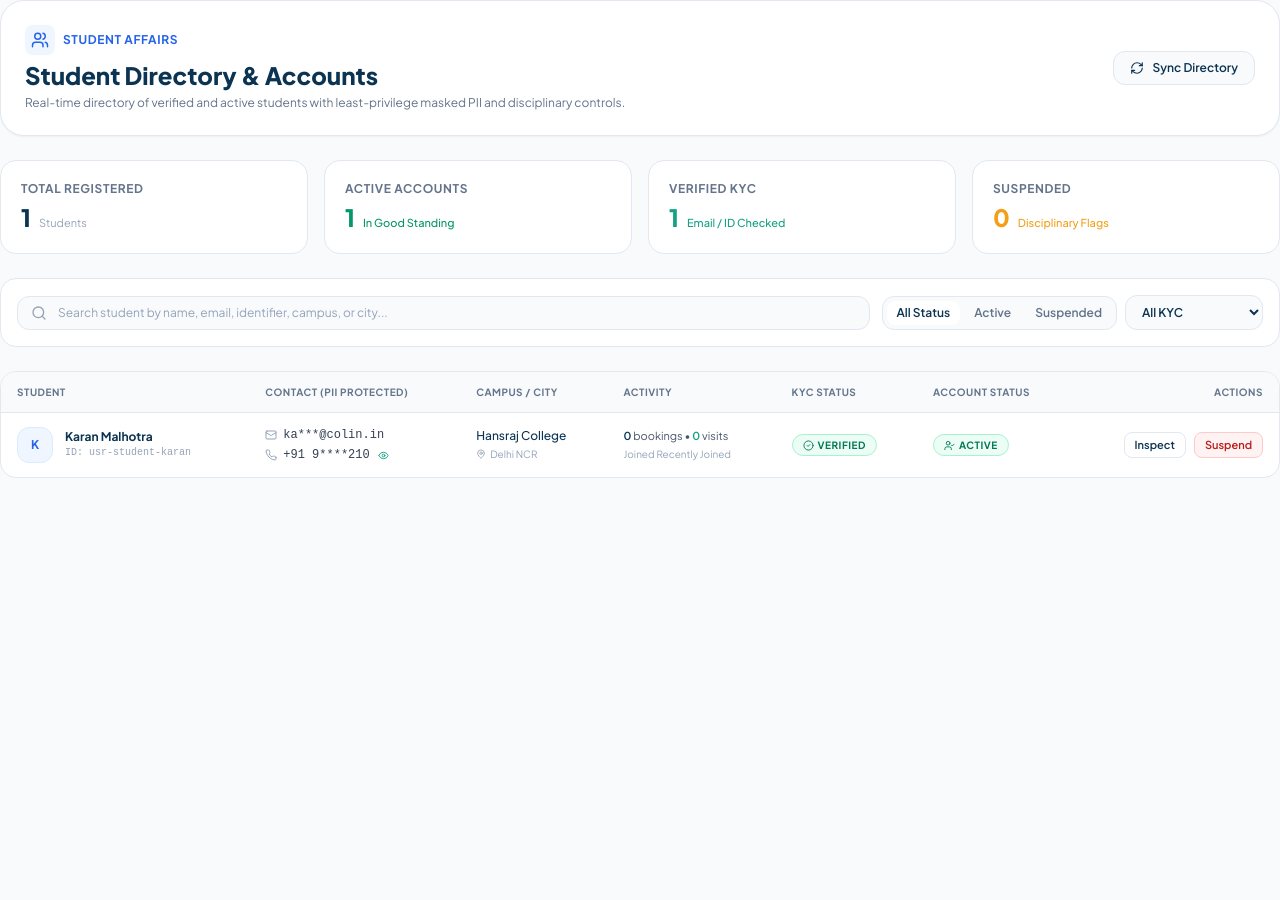
COLIN Master Admin Portal Final Acceptance Audit › Section 3 & 5: Student Registration Lifecycle & Management › renders AdminStudentsPage with search, masked PII, unmask toggle, and suspension controls
Expected: the text "Karan Malhotra" is shown, [65,429,153,444]
Expected: the text "ka***@colin.in" is shown, [283,427,384,443]
Click inspect
Click the button "Inspect": (1155, 445) [1124,432,1186,458]
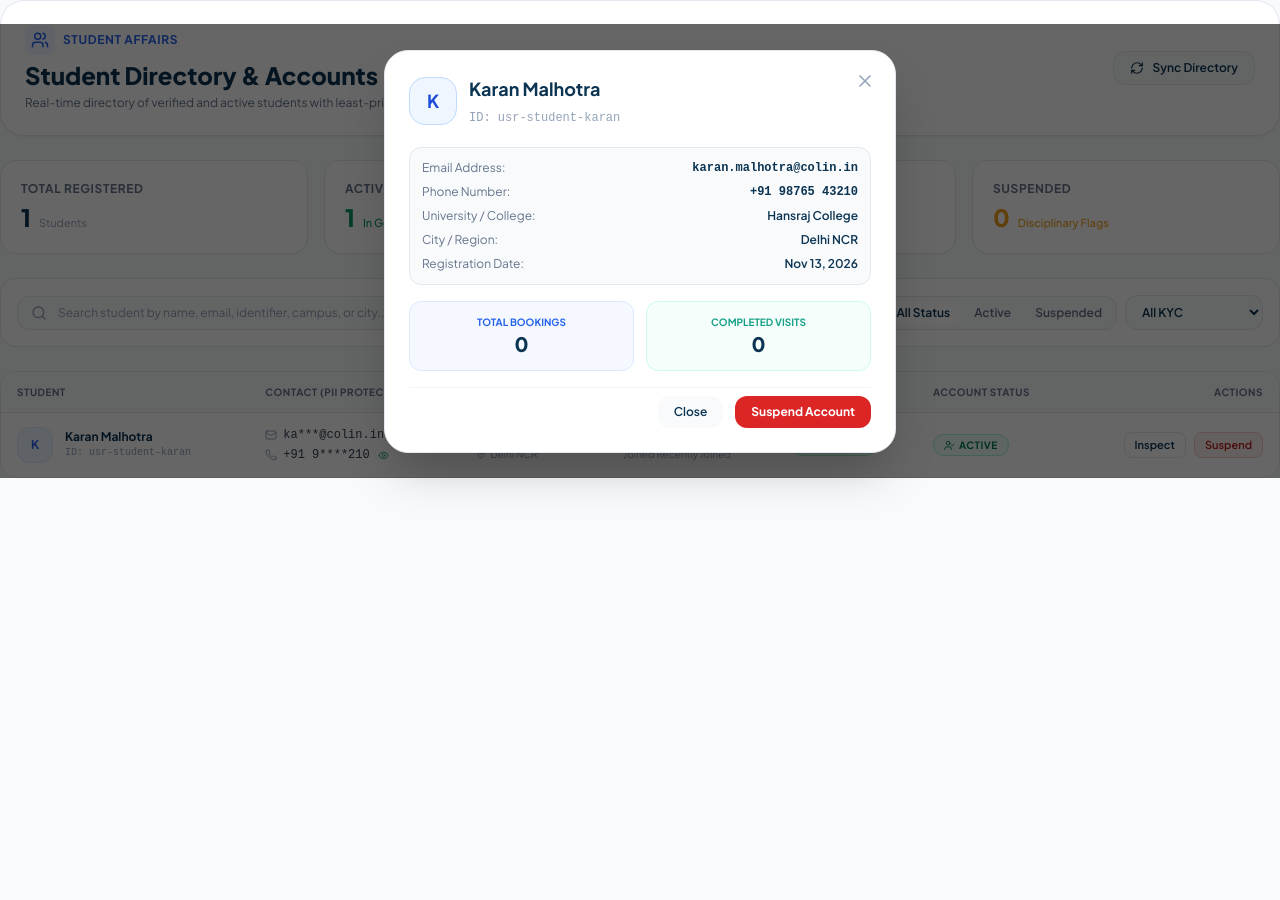
Click the button "Close": (690, 412) [658,396,723,428]
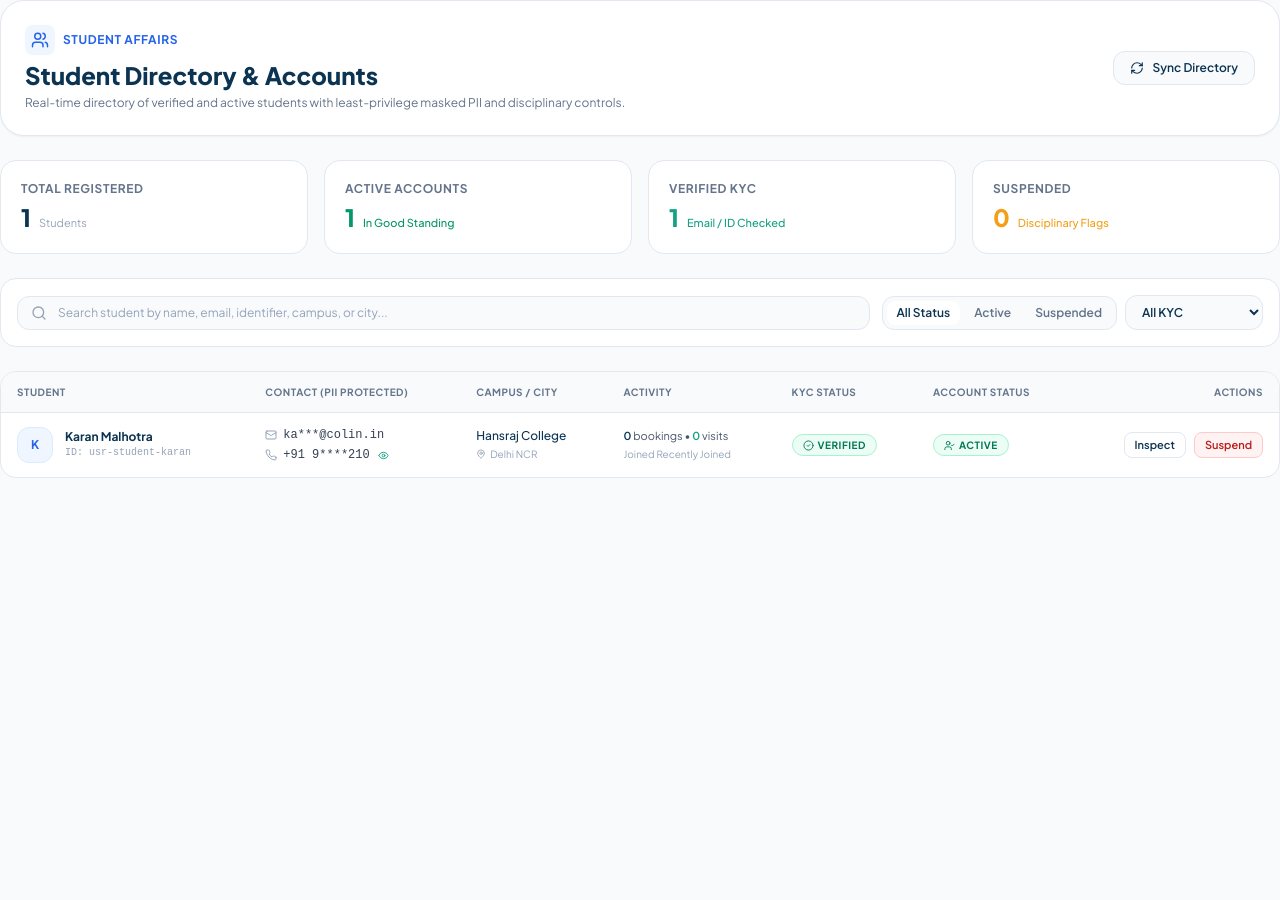
Click the button "Suspend": (1228, 445) [1194,432,1263,458]
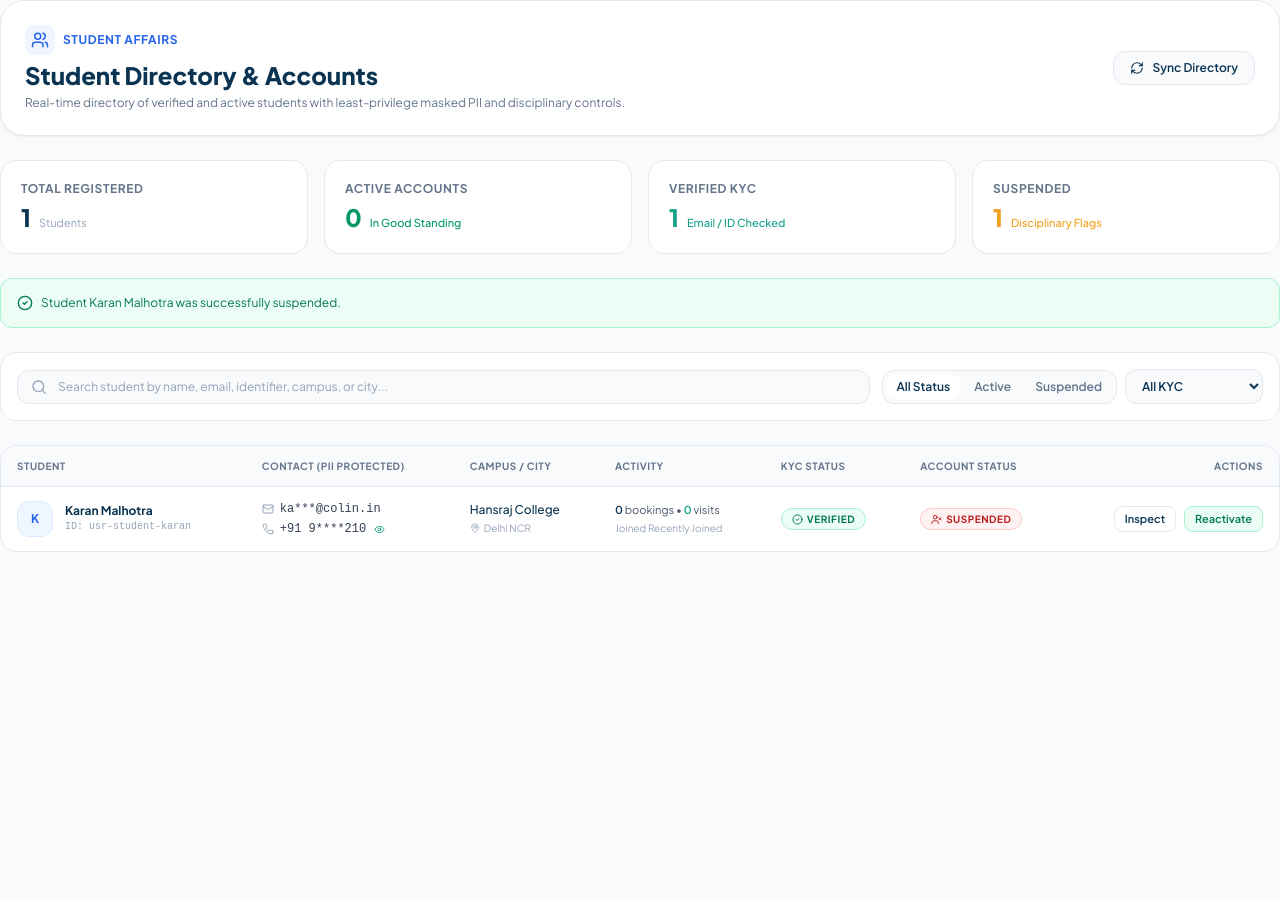
Expected: the text "Student Karan Malhotra was successfully suspended." is shown, [41,295,341,311]
